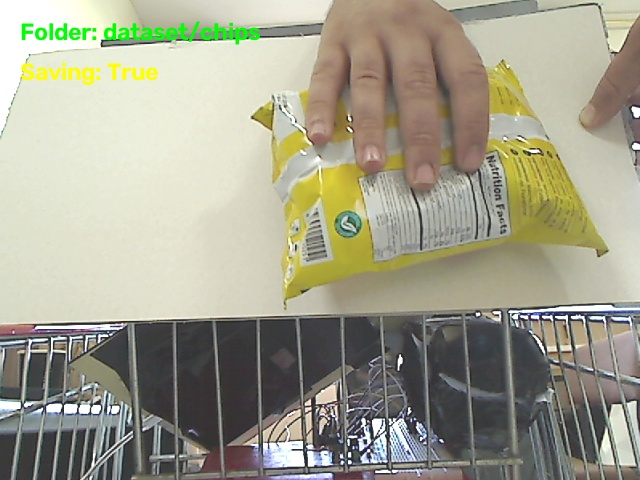chips: (253, 62, 607, 301)
